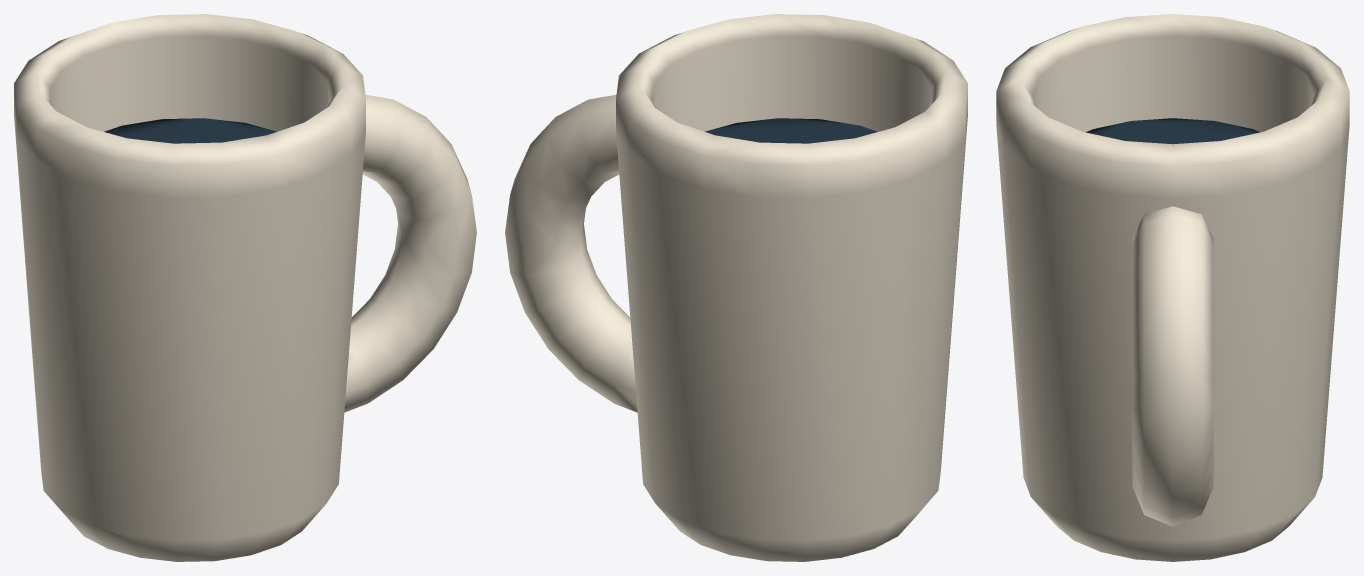
The model's file is Lounge_Mug.glb.
3 views of the same model, side by side, from view 1: azimuth 30°, elevation 25°; view 2: azimuth 150°, elevation 25°; view 3: azimuth 270°, elevation 25° (orthographic).
Visible parts, largest first — view 1: Lounge_Mug__Visual; view 2: Lounge_Mug__Visual; view 3: Lounge_Mug__Visual.
Boxes of the visible parts, x1,y1,x2,y2 form: Lounge_Mug__Visual: [14, 14, 476, 561]; Lounge_Mug__Visual: [505, 14, 967, 561]; Lounge_Mug__Visual: [996, 14, 1349, 561].
Bounding box in the file's own units: 0.111 × 0.105 × 0.078.
1 material, 1 textured.
